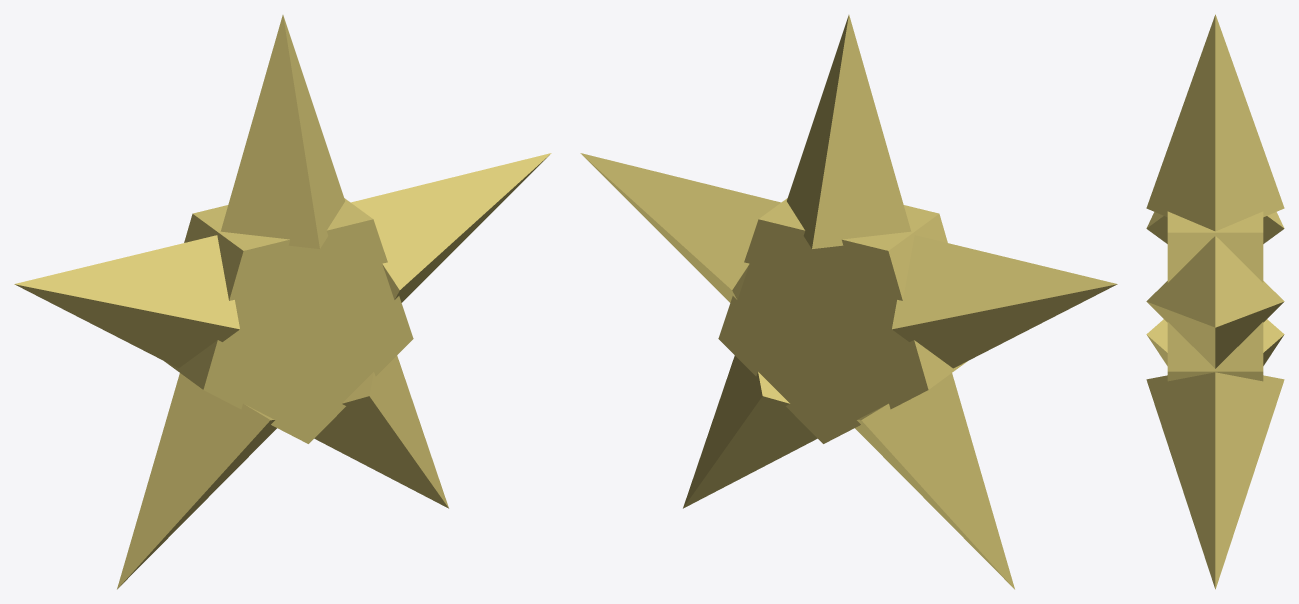
The picture shows the model from 3 angles, left to right: view 1: azimuth 30°, elevation 25°; view 2: azimuth 150°, elevation 25°; view 3: azimuth 270°, elevation 25°; orthographic projection. The views are drawn at different scales.
Visible parts, largest first — view 1: part0, part2, part1, part3, part5, part4; view 2: part0, part2, part1, part3, part5, part4; view 3: part4, part1, part5, part0, part3, part2.
Boxes of the visible parts, bbox=[...] form: part0: bbox=[164, 198, 413, 443]; part2: bbox=[14, 235, 239, 368]; part1: bbox=[220, 15, 344, 248]; part3: bbox=[117, 373, 276, 589]; part5: bbox=[351, 153, 551, 302]; part4: bbox=[314, 355, 448, 508]; part0: bbox=[718, 198, 967, 443]; part2: bbox=[892, 235, 1117, 368]; part1: bbox=[787, 15, 911, 248]; part3: bbox=[855, 373, 1014, 589]; part5: bbox=[580, 153, 780, 302]; part4: bbox=[683, 355, 817, 508]; part4: bbox=[1146, 372, 1284, 589]; part1: bbox=[1146, 14, 1284, 231]; part5: bbox=[1146, 236, 1284, 368]; part0: bbox=[1167, 211, 1263, 381]; part3: bbox=[1146, 319, 1284, 365]; part2: bbox=[1146, 212, 1284, 243].
Bounding box in the file's own units: 2.43 × 2.32 × 0.58.
